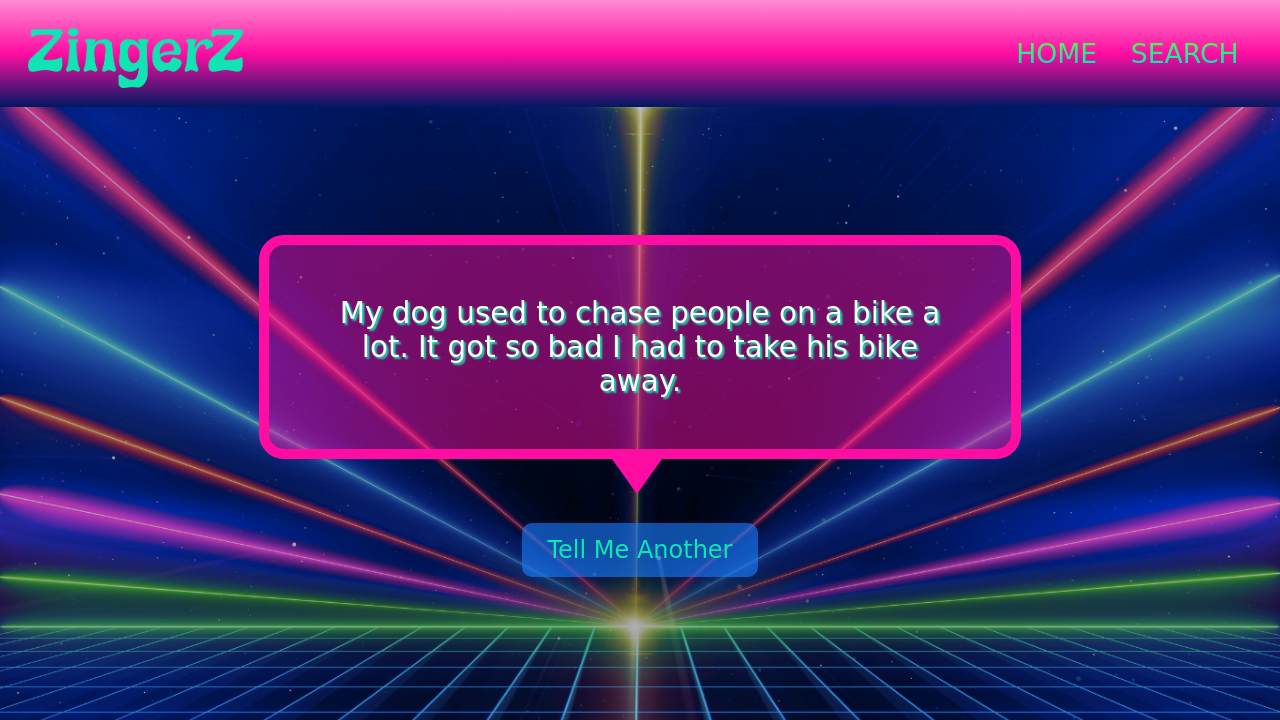
Test: home page › gets a new joke when the button is clicked
What coordinates should you click on to do the following:
click the button with class "new-joke-btn"
I would click on:
 (640, 550)
Its box is [522, 523, 758, 577].
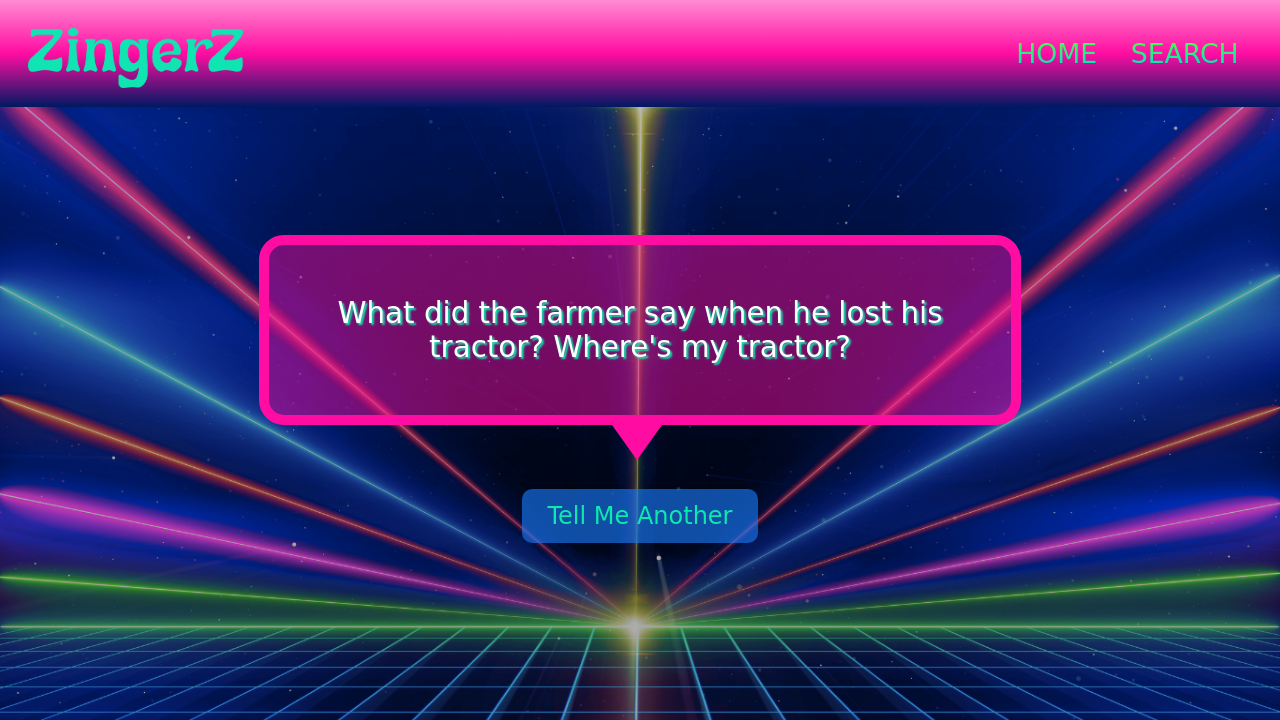
Check: the text "What did the farmer say when he lost his tractor? Where's my tractor?" is shown, box [259, 235, 1021, 425]
